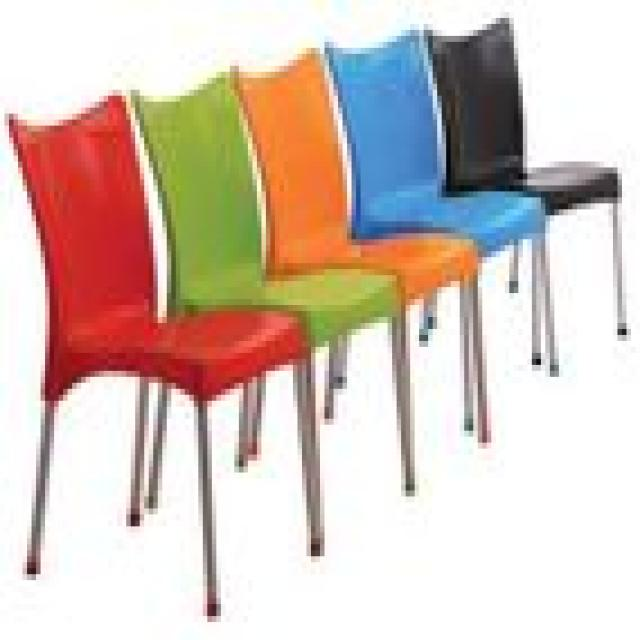others: (5, 12, 618, 628)
